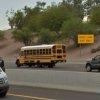Bus: (15, 40, 66, 70)
